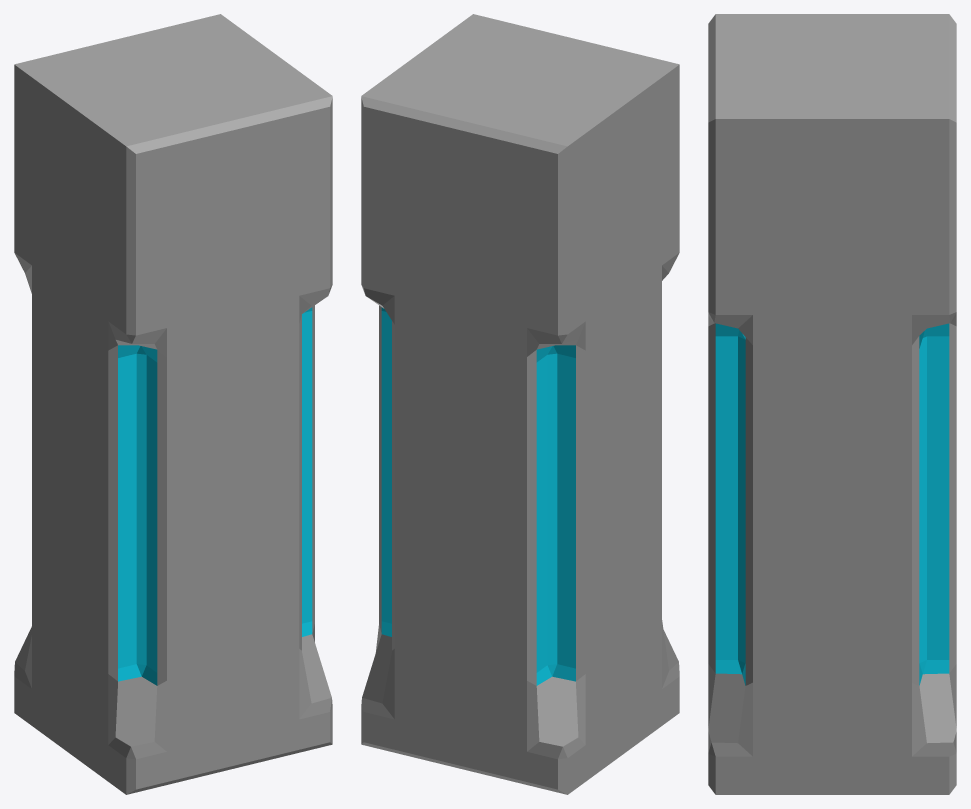
Rendered from Pillar.fbx.
3 renders of one model, left to right at view 1: azimuth 30°, elevation 25°; view 2: azimuth 150°, elevation 25°; view 3: azimuth 270°, elevation 25°, orthographic. The views are drawn at different scales.
Visible parts, largest first — view 1: Pilier; view 2: Pilier; view 3: Pilier.
Boxes of the visible parts, left/top/right/bottom form: Pilier: left=14, top=14, right=332, bottom=794; Pilier: left=361, top=14, right=679, bottom=794; Pilier: left=708, top=14, right=956, bottom=794.
Size of the model in its own units: 200 by 600 by 200.
